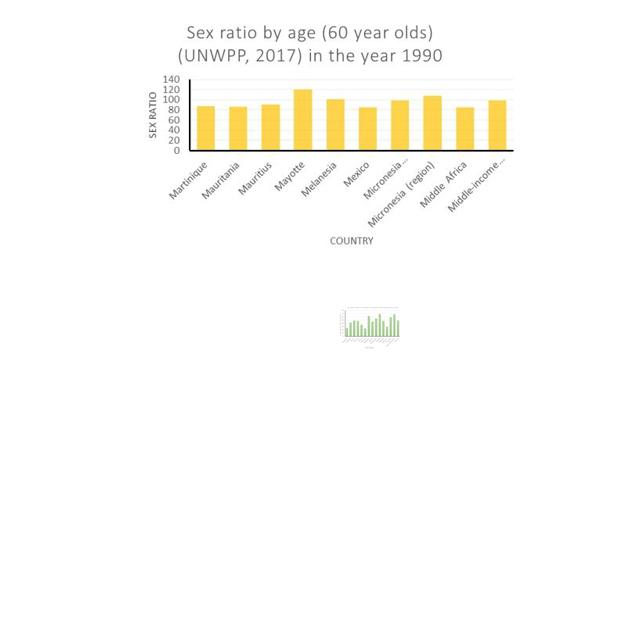Graph: (138, 17, 520, 254), (338, 306, 401, 350)
